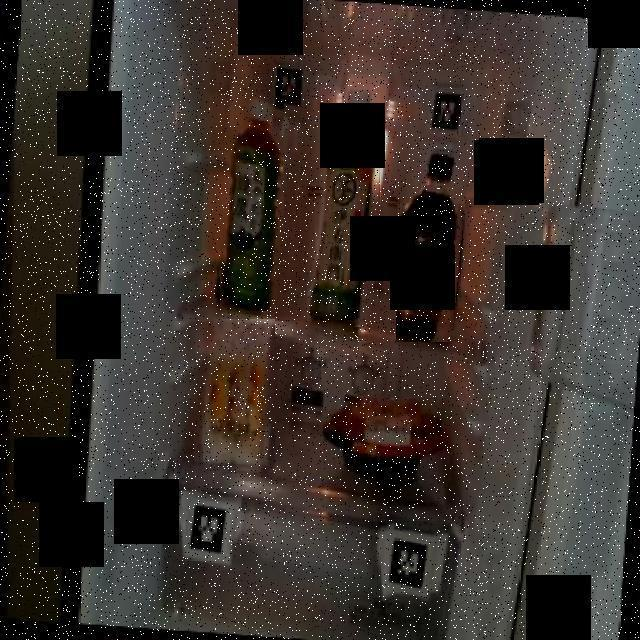bento: (320, 398, 451, 488)
bottle: (308, 85, 382, 330), (213, 91, 284, 312)
coffee: (396, 144, 470, 342)
sandwich: (190, 319, 276, 475)
